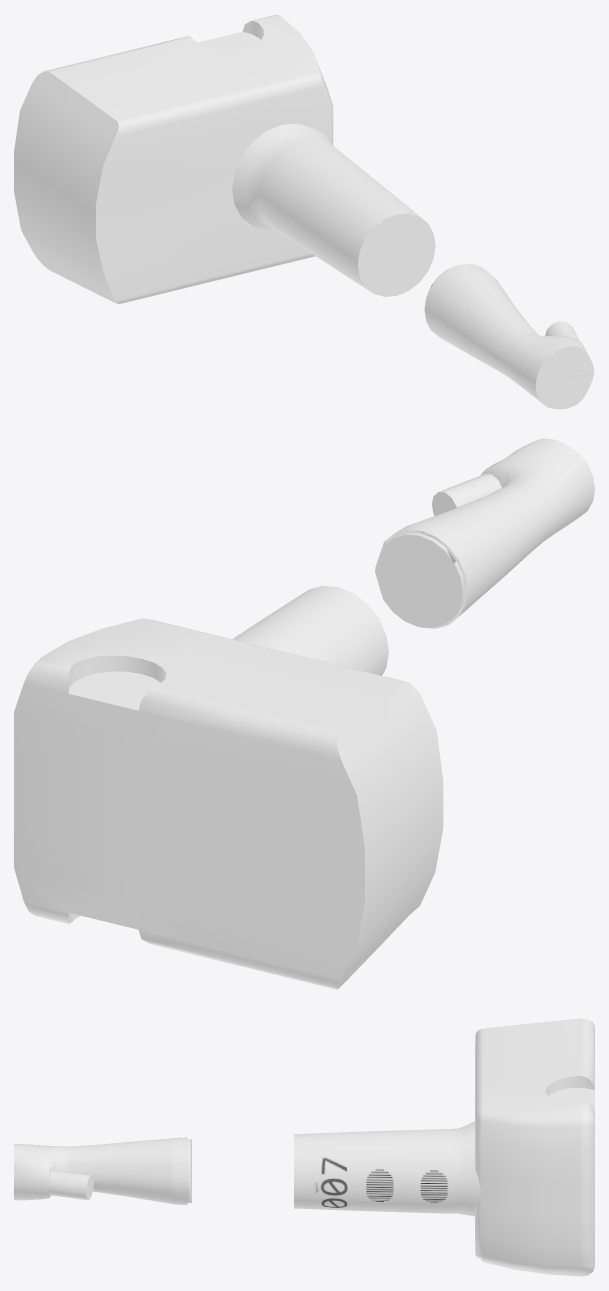
File: link_base.glb.glb
3 views of the same model, one above another, from view 1: azimuth 30°, elevation 25°; view 2: azimuth 150°, elevation 25°; view 3: azimuth 270°, elevation 25° (orthographic). The views are drawn at different scales.
Parts seen in each view (by area): view 1: link_base.3obj.009, link_base.3obj.010, link_base.3obj.011; view 2: link_base.3obj.009, link_base.3obj.011, link_base.3obj.010, link_base.3obj.012; view 3: link_base.3obj.009, link_base.3obj.010, link_base.3obj.011, link_base.3obj.012.
Part boxes in pixels (x1,y1,x2,y2): link_base.3obj.009: [14, 14, 333, 304]; link_base.3obj.010: [232, 123, 435, 296]; link_base.3obj.011: [424, 264, 594, 409]; link_base.3obj.009: [14, 618, 443, 989]; link_base.3obj.011: [375, 438, 594, 628]; link_base.3obj.010: [232, 585, 388, 675]; link_base.3obj.012: [431, 474, 501, 515]; link_base.3obj.009: [475, 1018, 594, 1276]; link_base.3obj.010: [294, 1121, 480, 1216]; link_base.3obj.011: [14, 1137, 191, 1205]; link_base.3obj.012: [49, 1170, 93, 1200].
Bounding box in the file's own units: 0.54 × 0.3776 × 1.21.
Materials: 4 (4 with a texture image).
